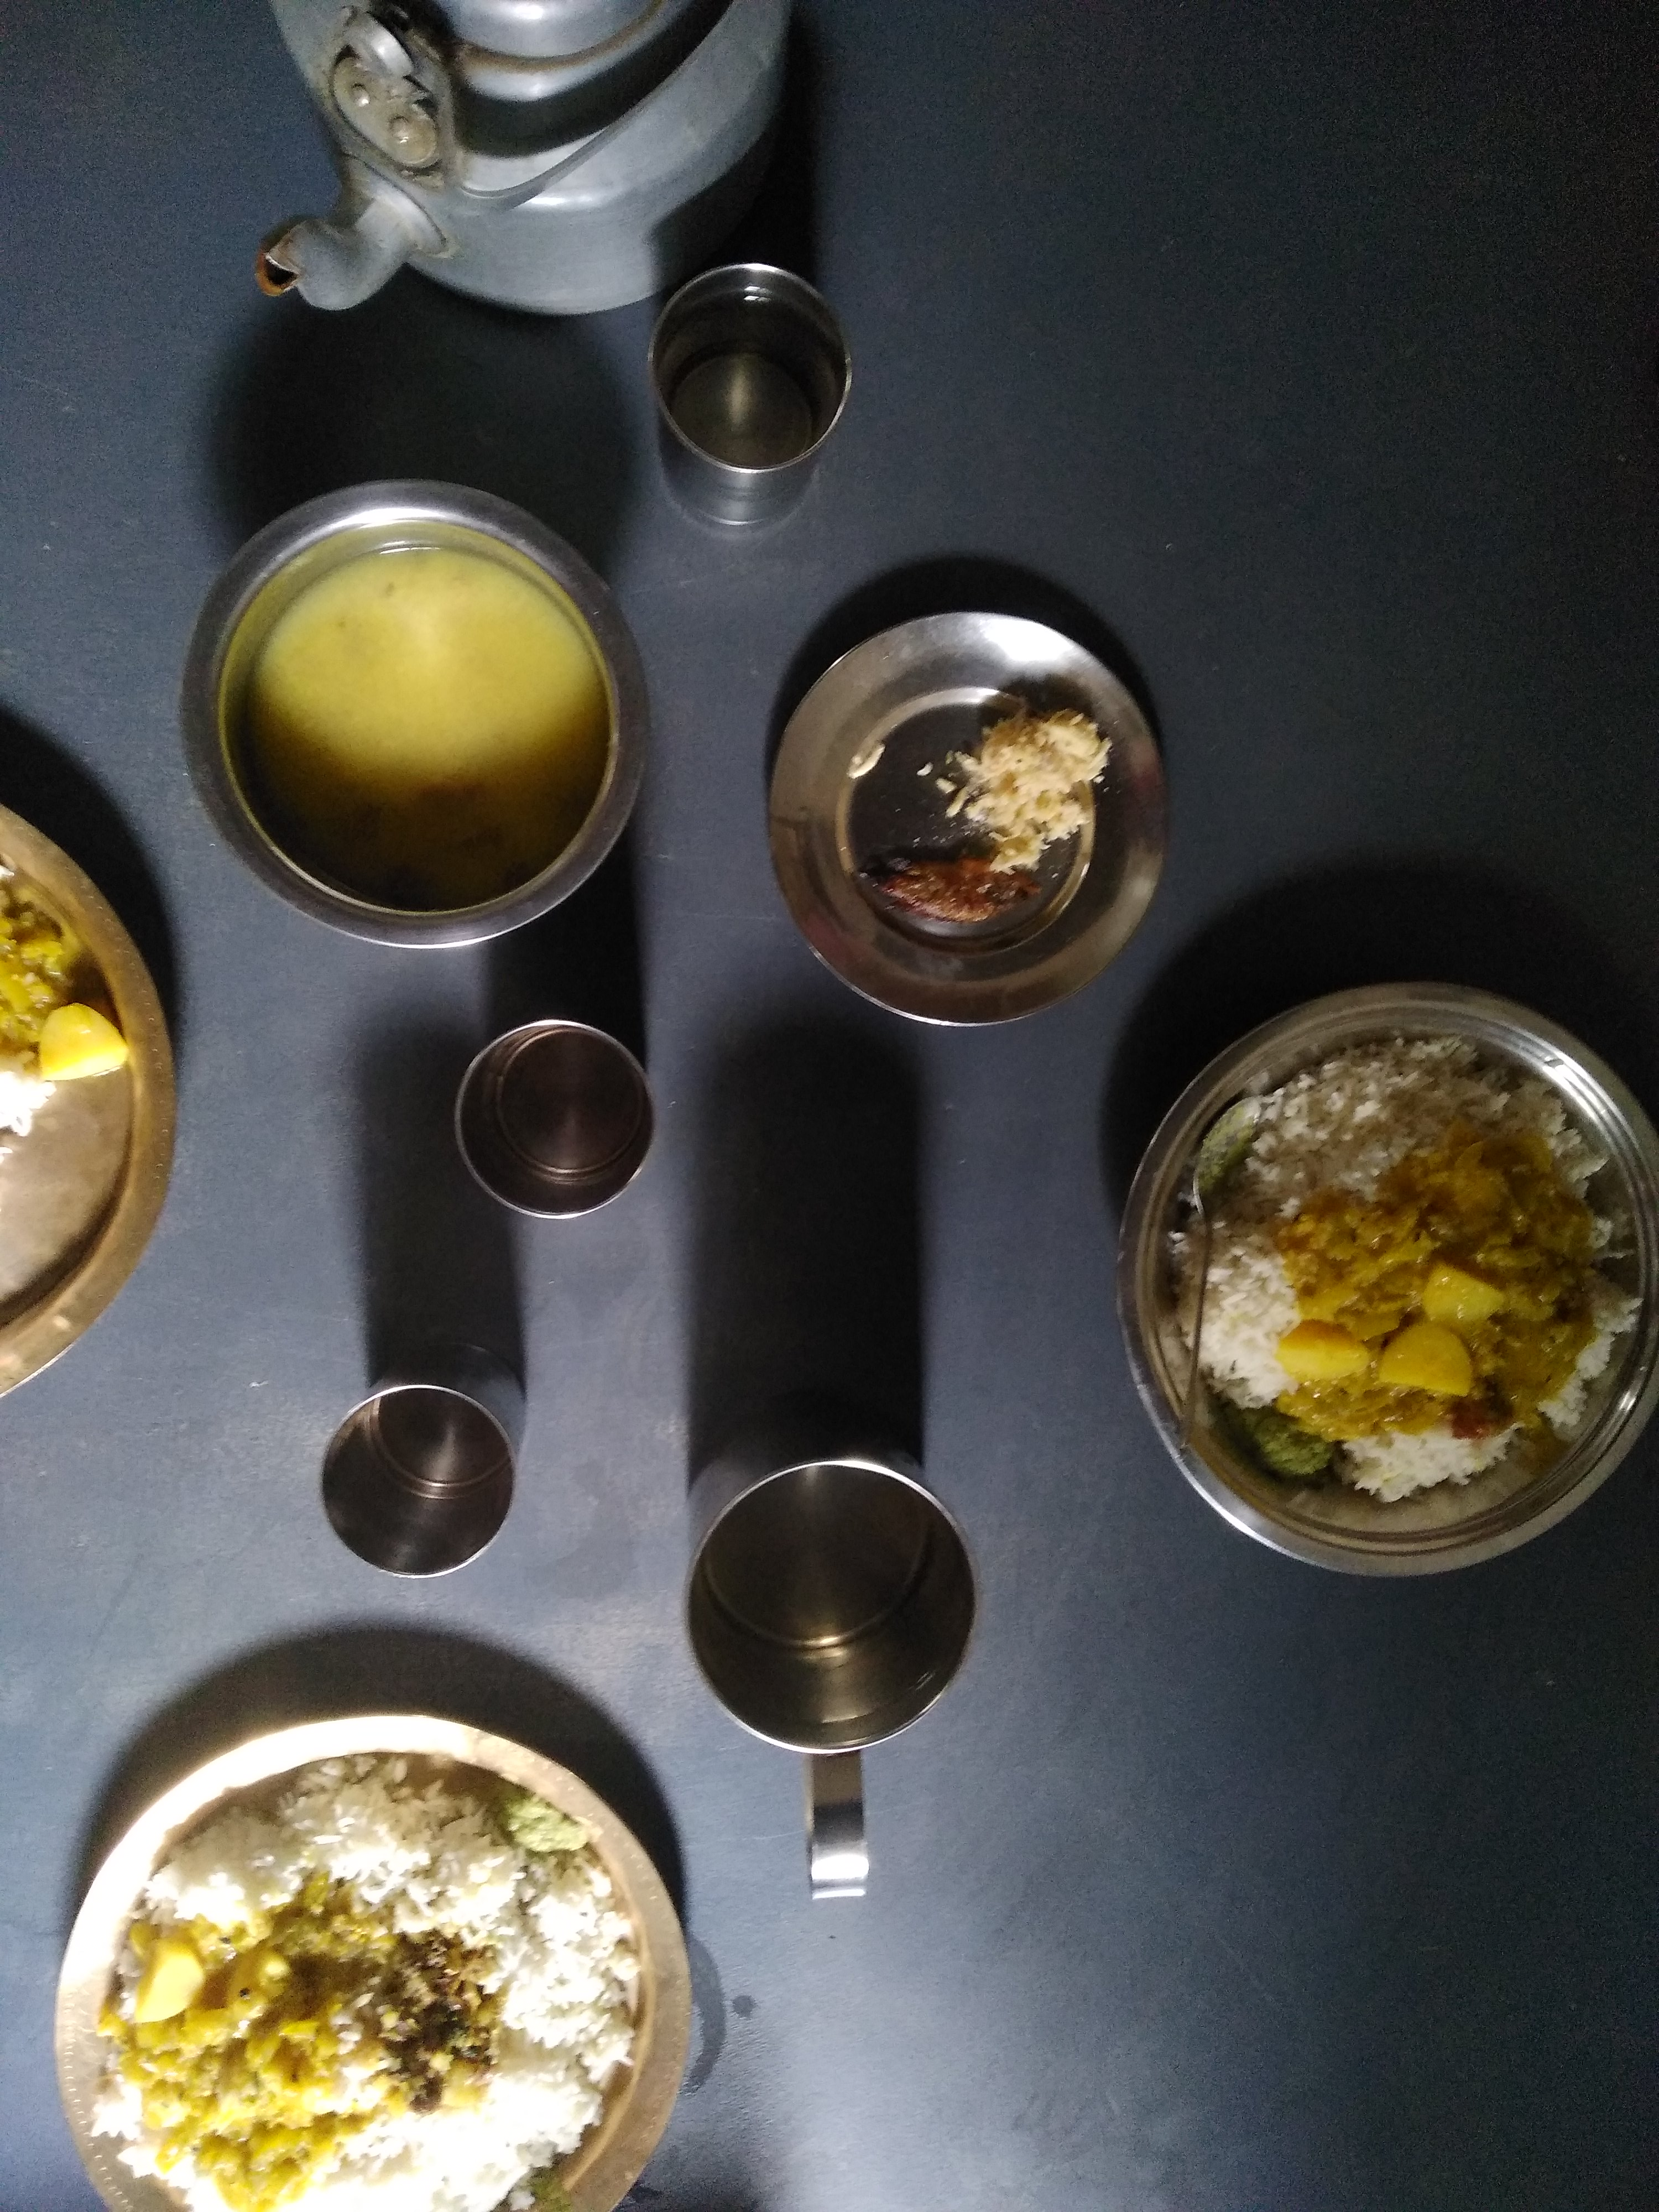food: (75, 1743, 659, 2212), (1150, 1024, 1647, 1508), (225, 535, 599, 904), (843, 679, 1115, 932), (0, 862, 143, 1204)
